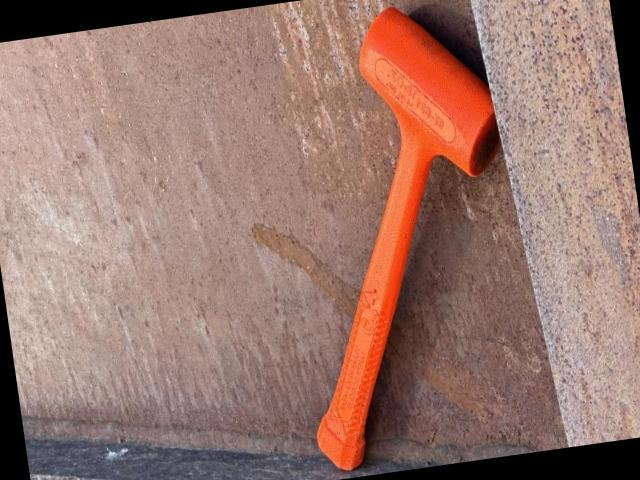hammer: (258, 0, 554, 474)
